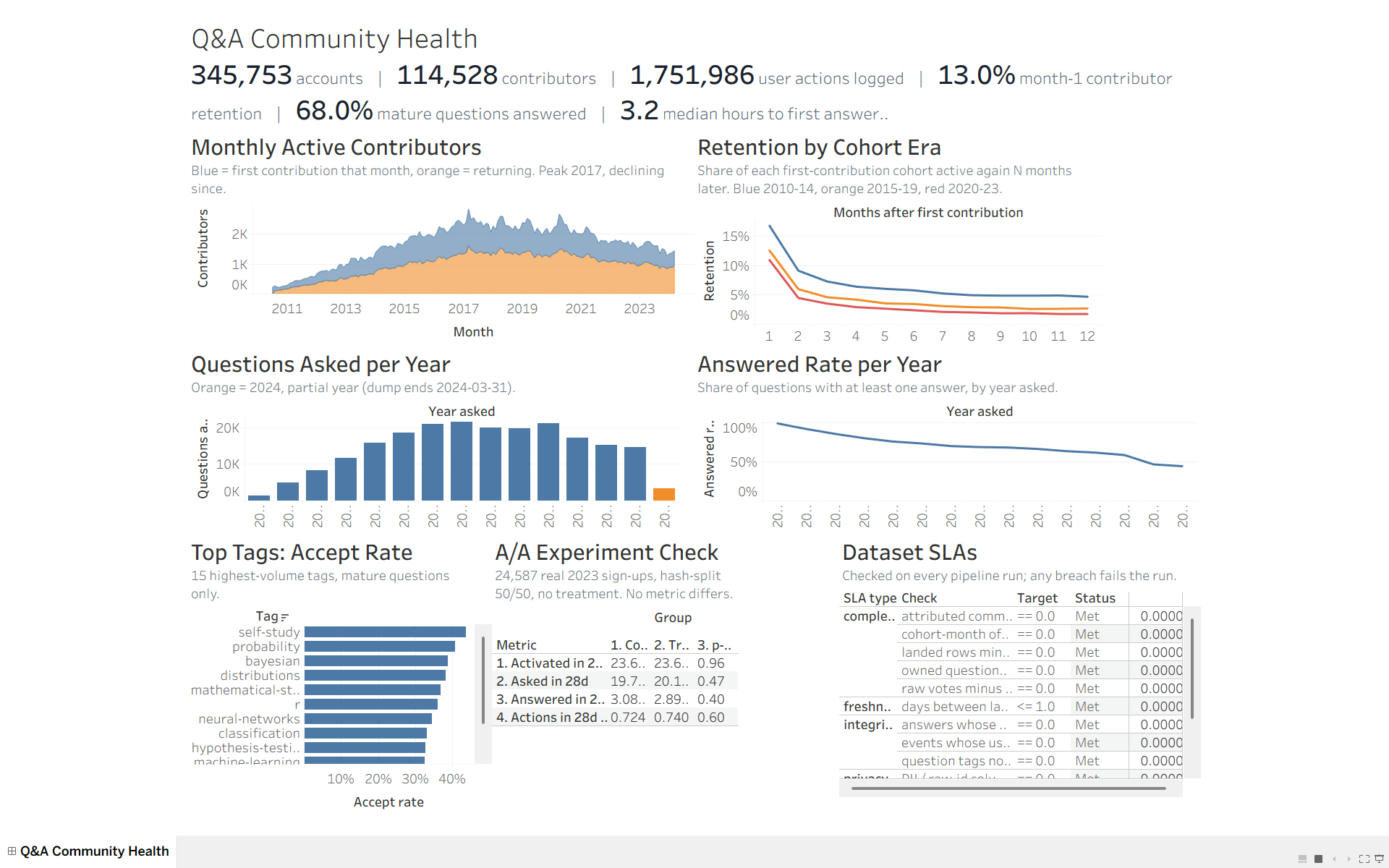

Layout of this report page (visuals, bound fields, positions):
{"tool":"tableau","page":{"name":"Q&A Community Health","canvas":[1400,1100],"ordinal":0},"visuals":[{"type":"title","box":[0,0,1400,50]},{"type":"text","box":[0,50,1400,100]},{"type":"visual","title":"Monthly Active Contributors","box":[0,150,700,300]},{"type":"visual","title":"Retention by Cohort Era","box":[700,150,700,300]},{"type":"visual","title":"Questions Asked per Year","box":[0,450,700,260]},{"type":"visual","title":"Answered Rate per Year","box":[700,450,700,260]},{"type":"visual","title":"Top Tags: Accept Rate","box":[0,710,420,390]},{"type":"visual","title":"A/A Experiment Check","box":[420,710,480,390]},{"type":"visual","title":"Dataset SLAs","box":[900,710,500,390]}]}

Visuals, with their boxes on the page's 1400x1100 design canvas (x1, y1, x2, y2). These are canvas units, not pixel positions in the 1389x868 screenshot, which may show the page scaled, cropped or inside an application window:
title: 0/0/1400/50
text: 0/50/1400/150
"Monthly Active Contributors" visual: 0/150/700/450
"Retention by Cohort Era" visual: 700/150/1400/450
"Questions Asked per Year" visual: 0/450/700/710
"Answered Rate per Year" visual: 700/450/1400/710
"Top Tags: Accept Rate" visual: 0/710/420/1100
"A/A Experiment Check" visual: 420/710/900/1100
"Dataset SLAs" visual: 900/710/1400/1100
